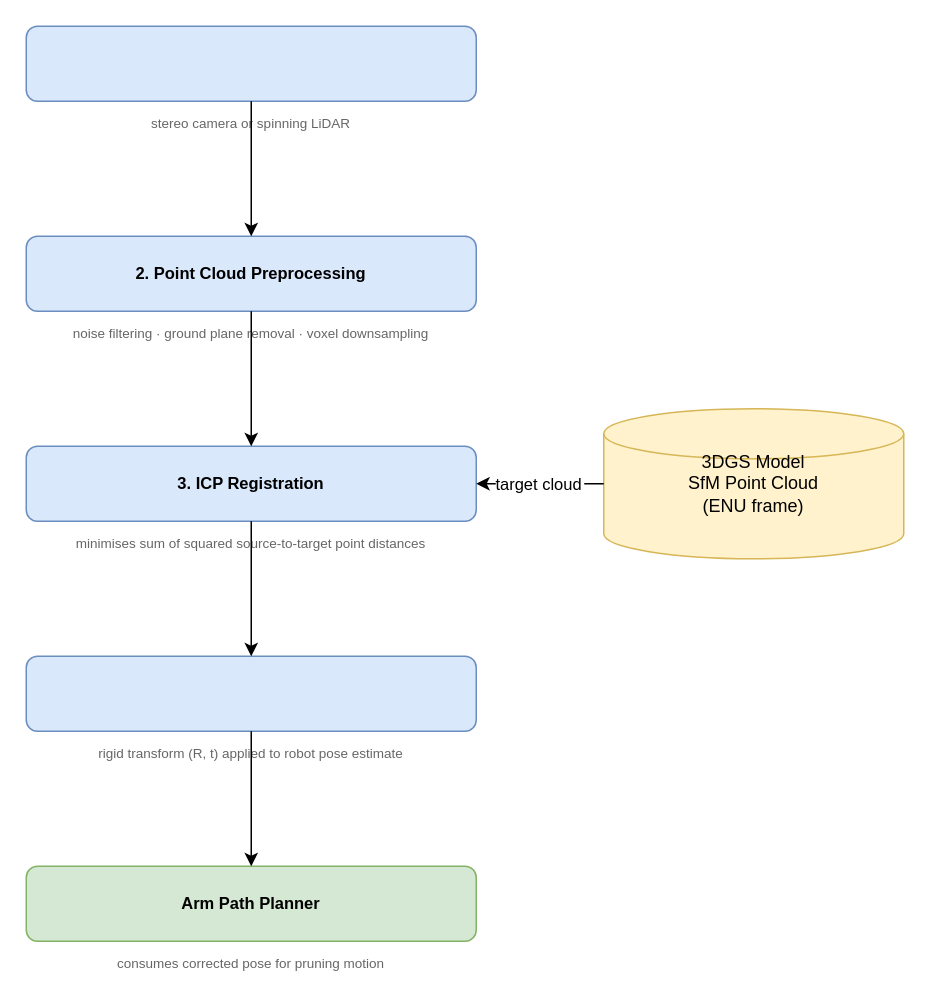
The diagram is 930 pixels wide and 999 high, and some of its shapes have lost their labels. The centre of each missing label's shape, as x and y in pixels:
1. Point Cloud Acquisition: pixel 250 63
4. Pose Update: pixel 250 693
